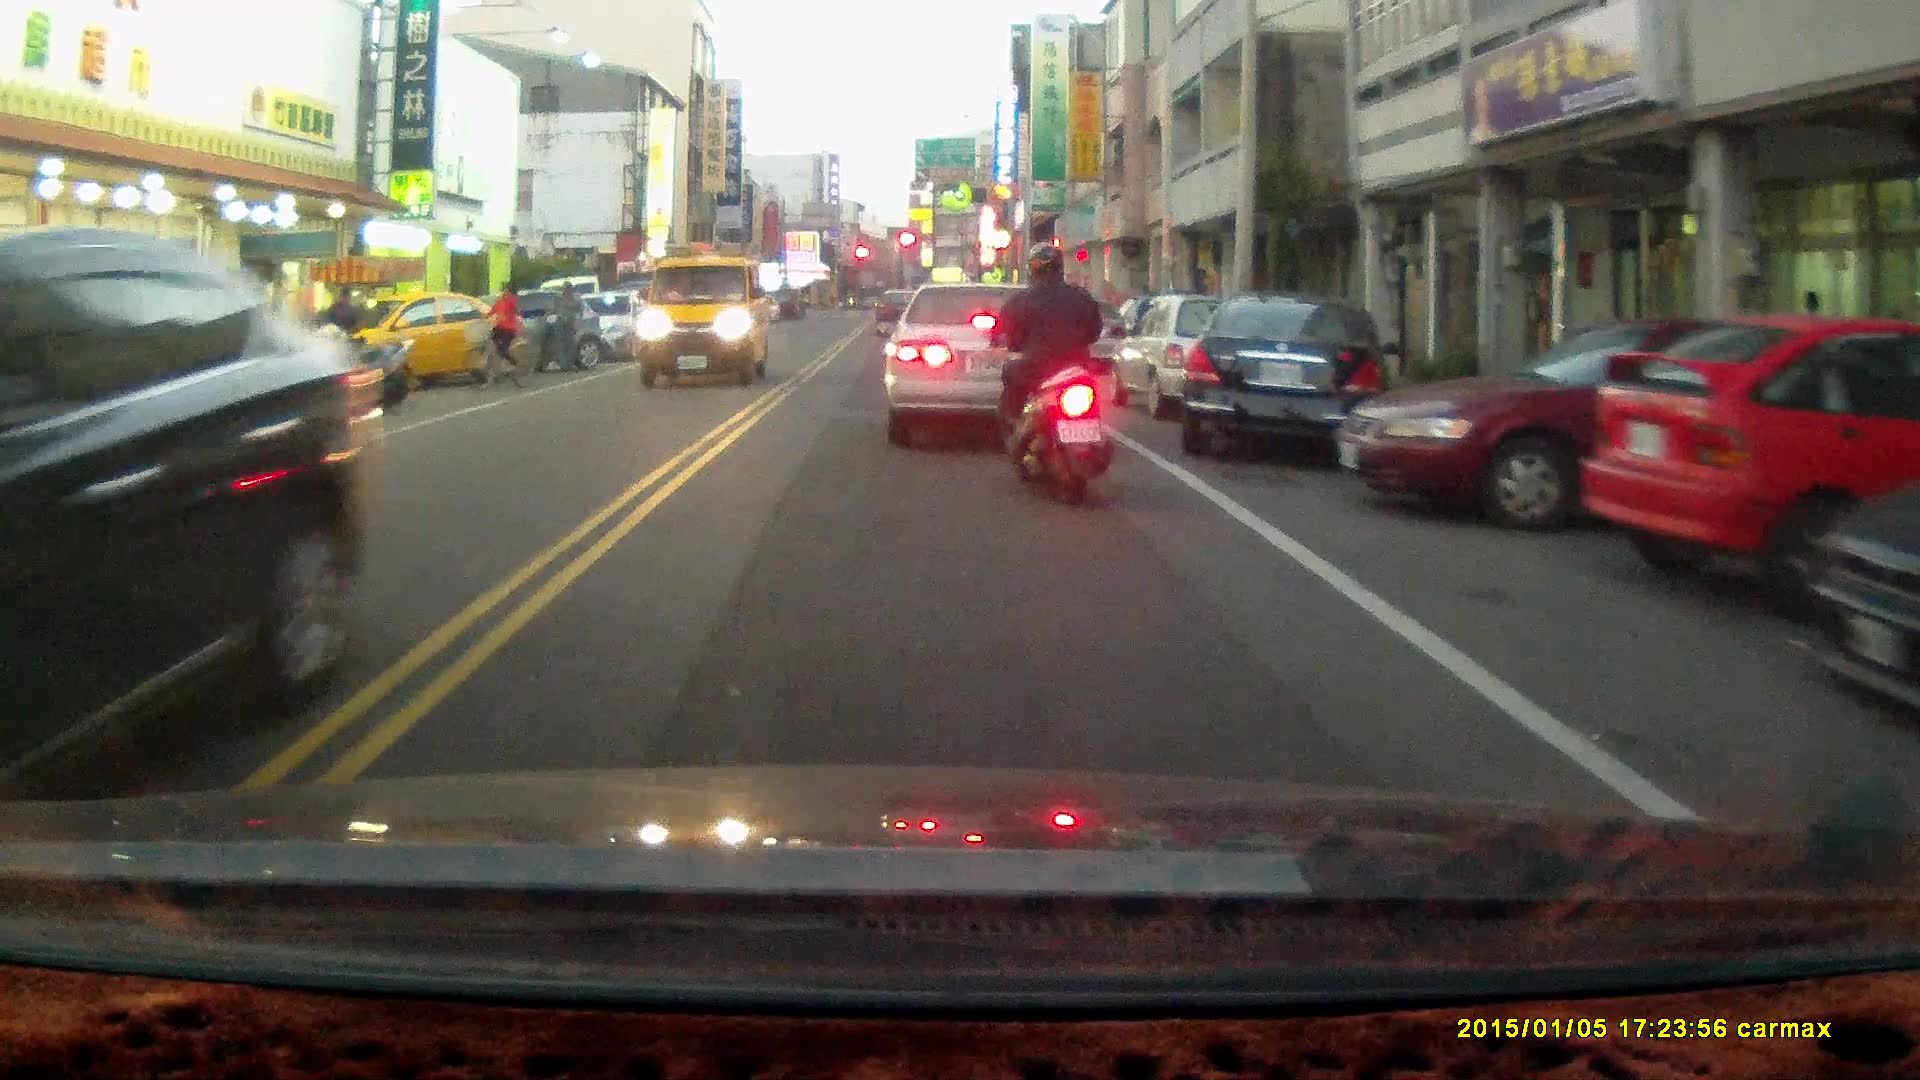pedestrian: (551, 276, 586, 373), (323, 284, 359, 370)
rider: (977, 238, 1119, 508), (461, 279, 535, 394)
vehicle: (1, 241, 360, 800), (1344, 309, 1817, 534), (1579, 312, 1920, 611), (1172, 292, 1392, 458), (885, 272, 1085, 432), (1805, 452, 1920, 728), (1094, 290, 1273, 420), (636, 248, 767, 386), (351, 289, 530, 385)
